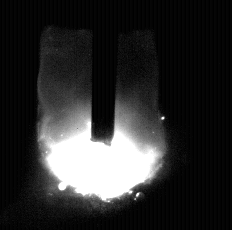arame: (92, 0, 116, 146)
poca: (36, 0, 166, 230)
